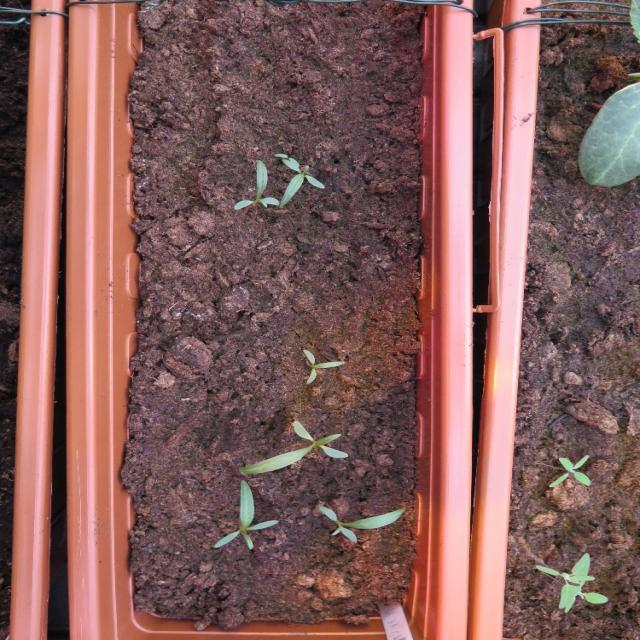weed: (236, 418, 348, 476), (213, 477, 278, 551), (316, 503, 404, 543), (301, 347, 346, 384), (547, 452, 590, 488)
